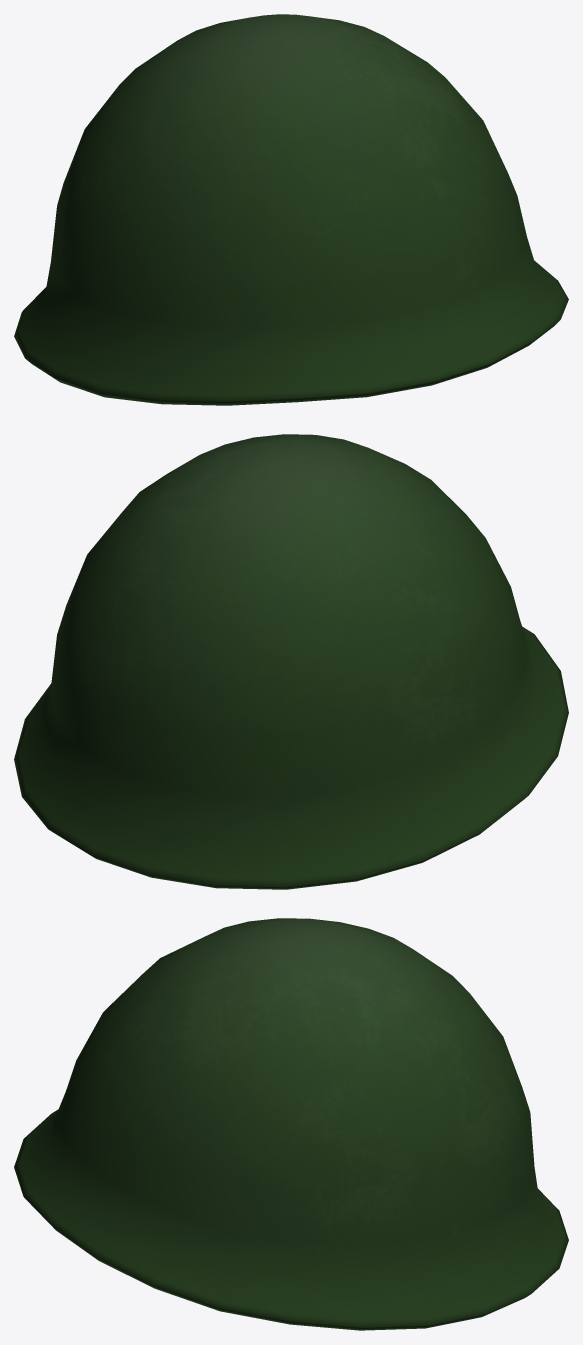
The model's file is SoldierHelmet.FBX.
The picture shows the model from 3 angles, top to bottom: view 1: azimuth 30°, elevation 25°; view 2: azimuth 150°, elevation 25°; view 3: azimuth 270°, elevation 25°; orthographic projection. The views are drawn at different scales.
Parts seen in each view (by area): view 1: SoldierHelmet; view 2: SoldierHelmet; view 3: SoldierHelmet.
Part boxes in pixels (box(x1,y1,x2,y2)): SoldierHelmet: box(14, 14, 568, 405); SoldierHelmet: box(14, 434, 568, 889); SoldierHelmet: box(14, 918, 568, 1330).
Bounding box in the file's own units: 41.63 × 26.77 × 43.67.
Materials: 1 (1 with a texture image).
